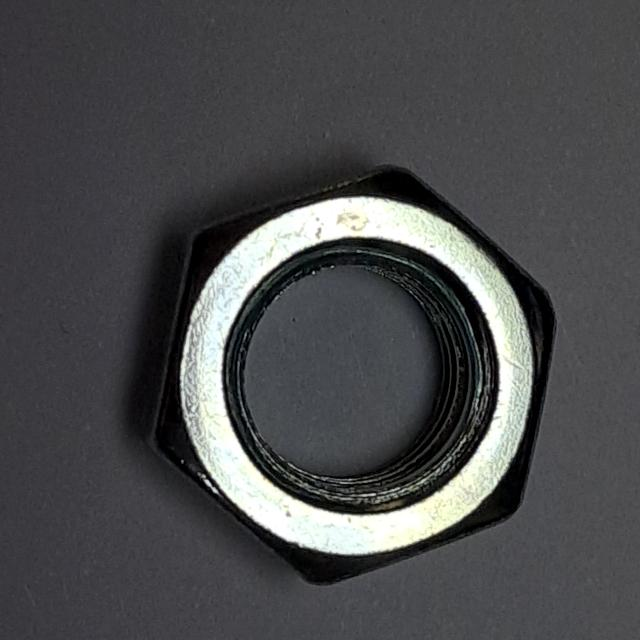Excellent: (130, 154, 569, 603)
